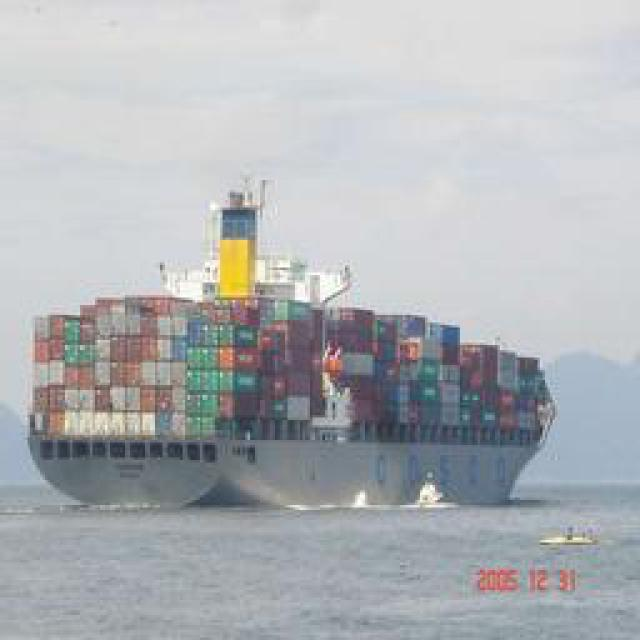Ship: (36, 188, 564, 516)
